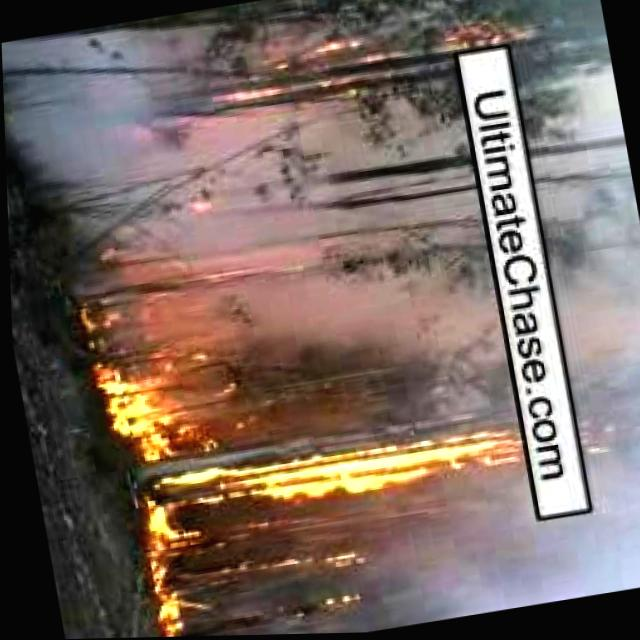helmet: (138, 413, 525, 528), (166, 22, 378, 116), (93, 353, 231, 458), (200, 546, 360, 599), (136, 531, 201, 638), (430, 14, 537, 70)
no_helmet: (0, 0, 515, 490)
